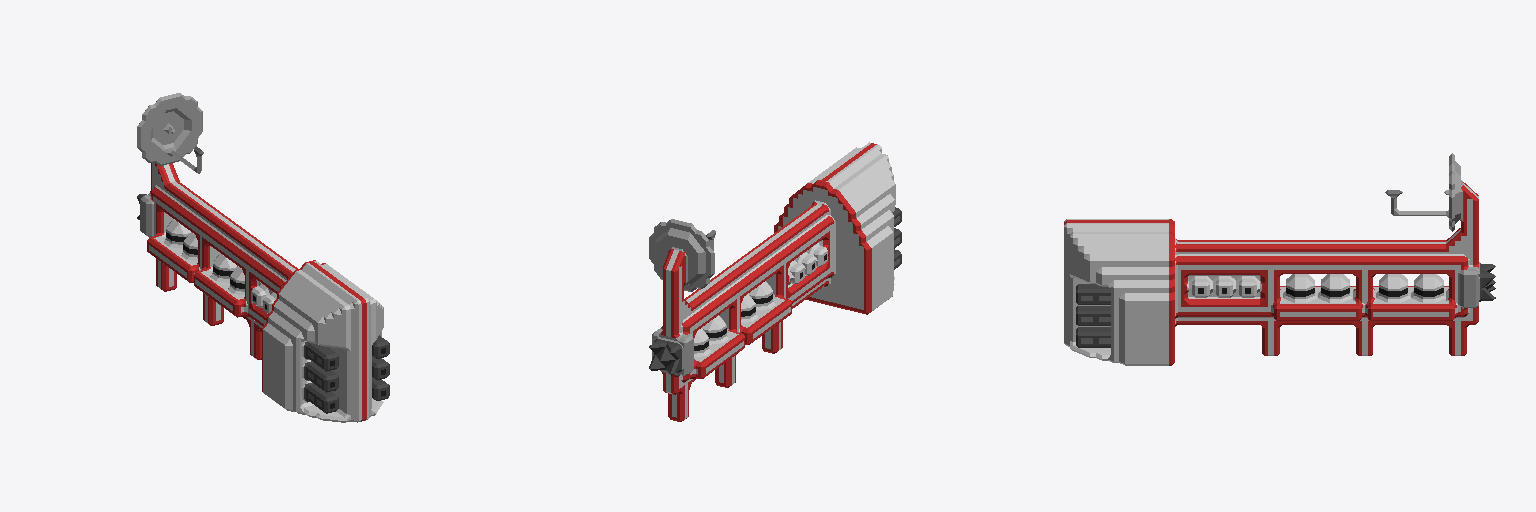
3 views of the same model, side by side, from view 1: azimuth 30°, elevation 25°; view 2: azimuth 150°, elevation 25°; view 3: azimuth 270°, elevation 25° (orthographic).
Size of the model in its own units: 19 by 37 by 74.
1 materials, 1 textured.